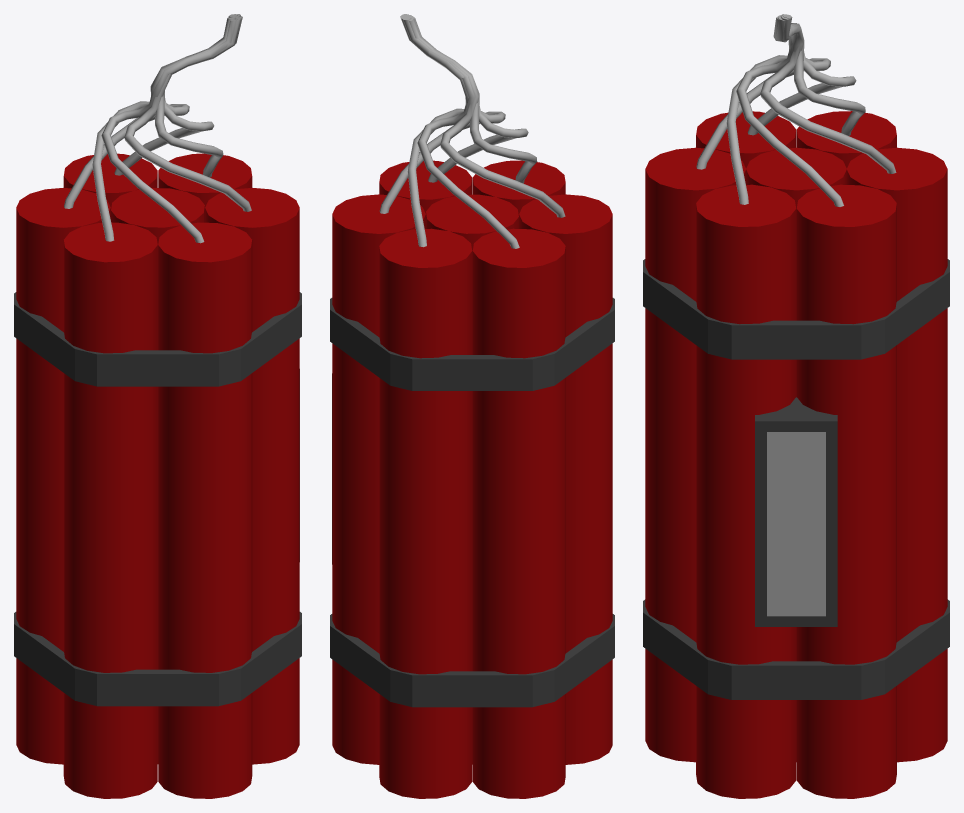
Rendered from dynamite.glb.
3 views of the same model, side by side, from view 1: azimuth 30°, elevation 25°; view 2: azimuth 150°, elevation 25°; view 3: azimuth 270°, elevation 25° (orthographic). The views are drawn at different scales.
Parts seen in each view (by area): view 1: Cylinder, BezierCurve; view 2: Cylinder, BezierCurve; view 3: Cylinder, BezierCurve.
Boxes of the visible parts, x1,y1,x2,y2 form: Cylinder: (14, 153, 301, 798); BezierCurve: (64, 14, 251, 243); Cylinder: (330, 160, 614, 798); BezierCurve: (379, 14, 565, 248); Cylinder: (643, 111, 949, 798); BezierCurve: (696, 14, 896, 206).
Bounding box in the file's own units: 0.2302 × 0.6667 × 0.2431.
